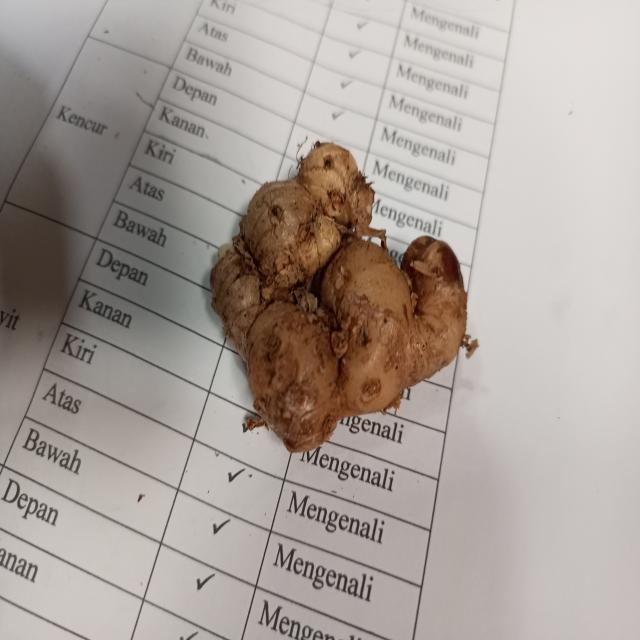ginger: (214, 148, 460, 422)
